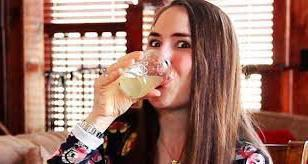Drunk: (144, 8, 196, 104)
